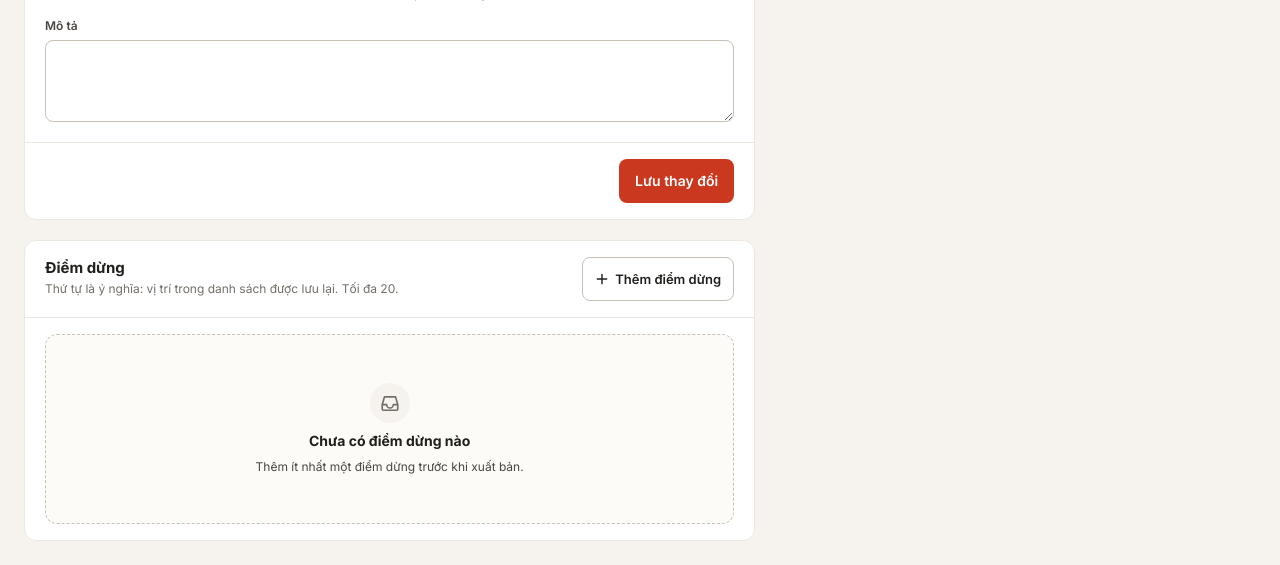
Test: plan template detail (CMS-026) › adds a stop using a real category taxonomy
(page scrolled)
Expected: the text "Chưa có điểm dừng nào" is shown, [309,431,470,451]
What coordinates should you click on to do the following:
click the button "Thêm điểm dừng"
I would click on:
 (658, 279)
Its box is [582,257,734,301].
(page scrolled)
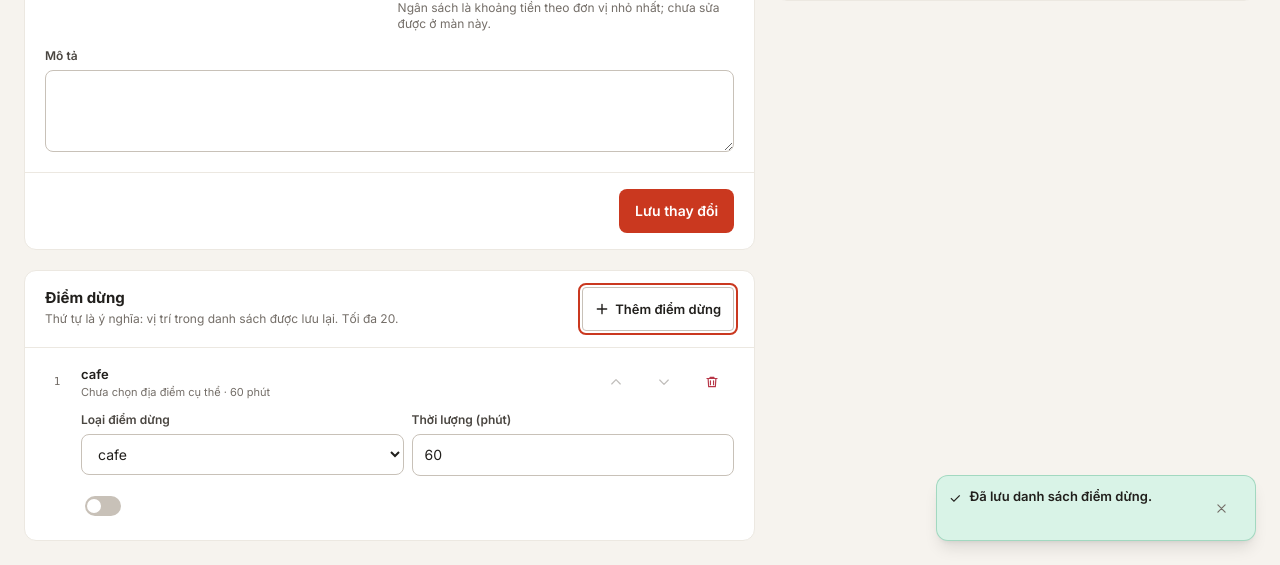
Expected: the text "Đã lưu danh sách điểm dừng." is shown, [969,488,1152,504]
